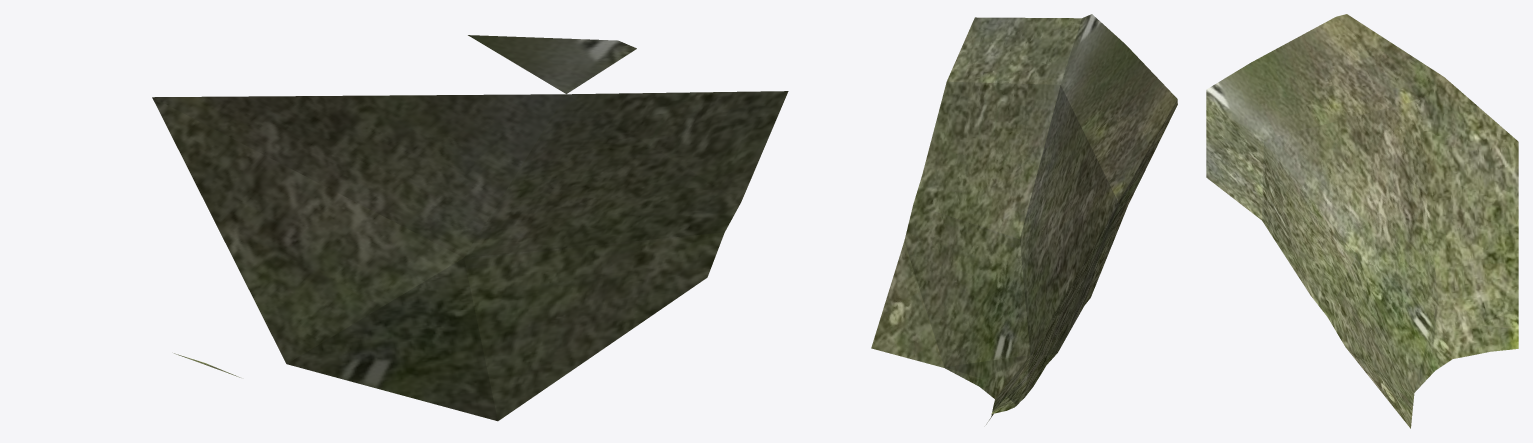
3 views of the same model, side by side, from view 1: azimuth 30°, elevation 25°; view 2: azimuth 150°, elevation 25°; view 3: azimuth 270°, elevation 25° (orthographic). The views are drawn at different scales.
Size of the model in its own units: 2.95 by 2.95 by 2.95.
Materials: 3 (3 with a texture image).
